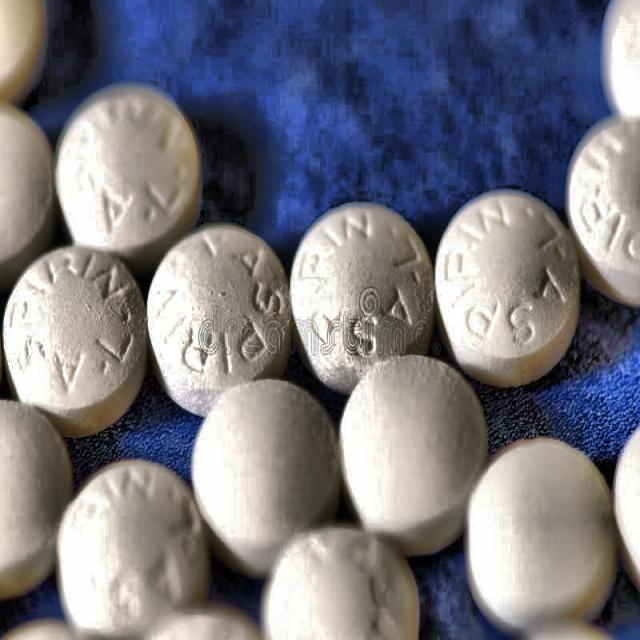Aspirin: (294, 209, 441, 369), (154, 221, 295, 385), (5, 245, 143, 401)
